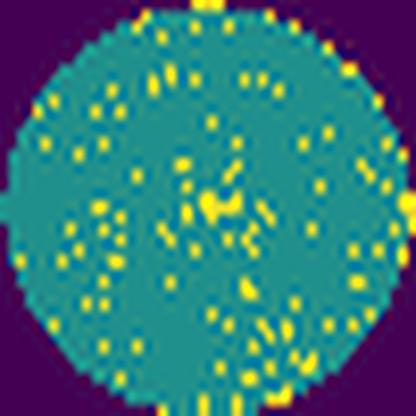Center: (192, 178, 257, 235)
